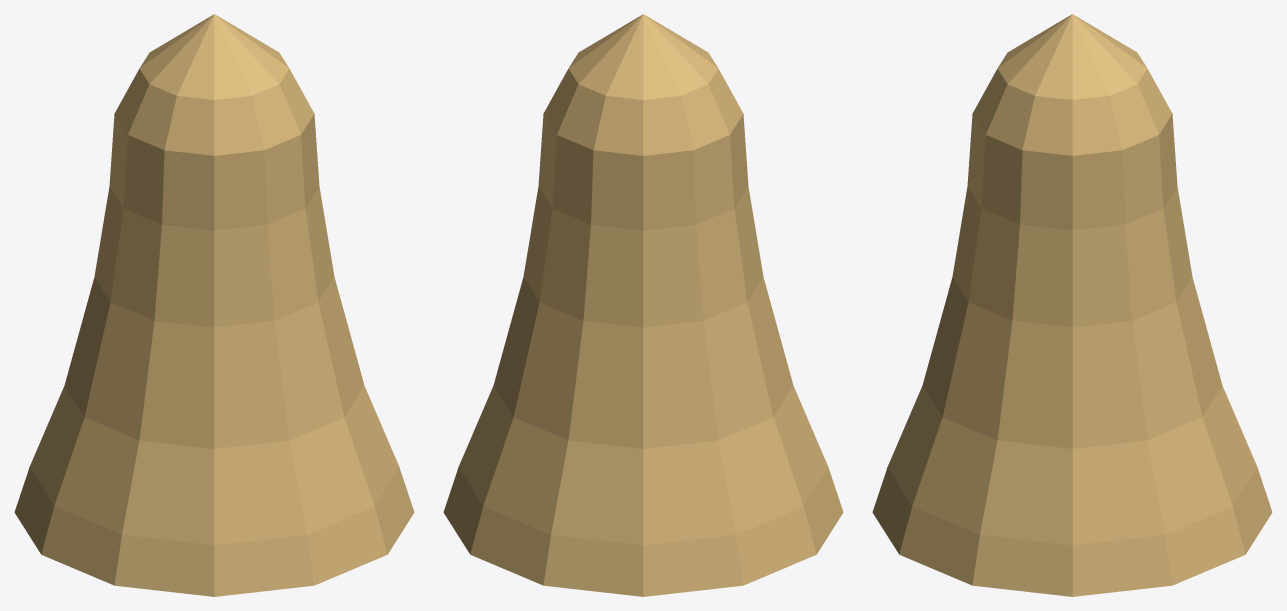
The model's file is bell.glb.
The picture shows the model from 3 angles, left to right: view 1: azimuth 30°, elevation 25°; view 2: azimuth 150°, elevation 25°; view 3: azimuth 270°, elevation 25°; orthographic projection.
Visible parts, largest first — view 1: bell; view 2: bell; view 3: bell.
Boxes of the visible parts, x1,y1,x2,y2 form: bell: (14, 14, 414, 596); bell: (443, 14, 843, 596); bell: (872, 14, 1272, 596).
Bounding box in the file's own units: 0.4 × 0.55 × 0.4.
